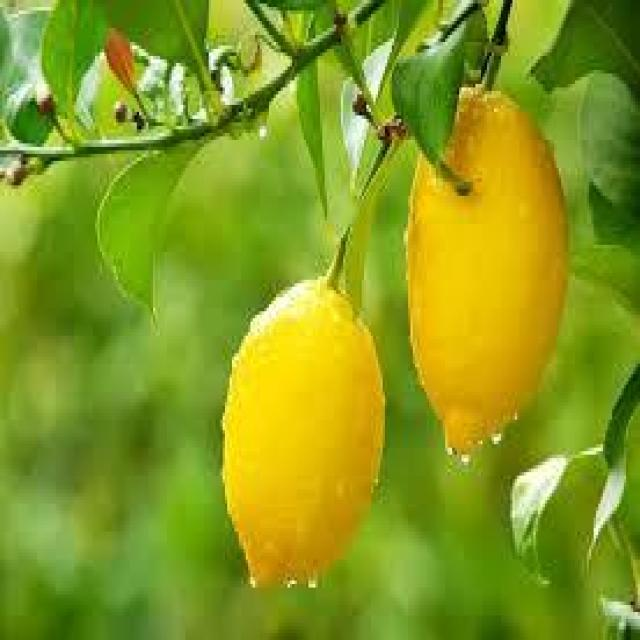fruit: (406, 79, 576, 476), (215, 278, 388, 604)
